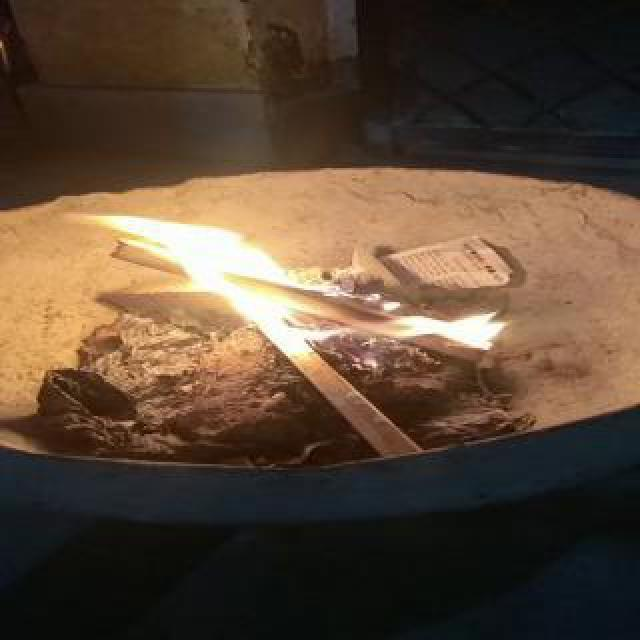Fire: (72, 202, 518, 366)
